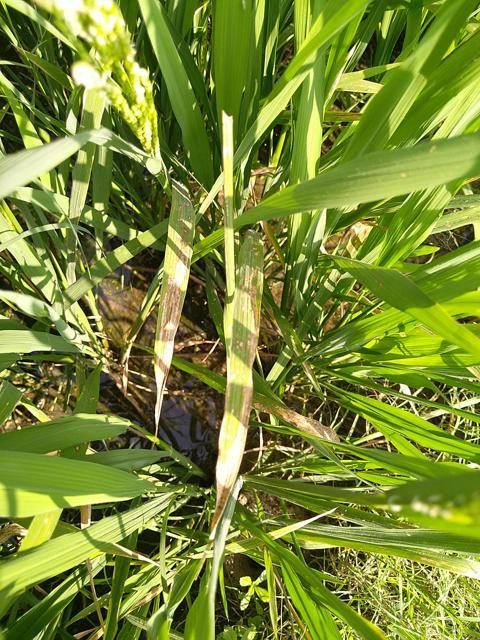Leaf Streak: (210, 265, 263, 541), (151, 184, 196, 436), (253, 391, 341, 443)
